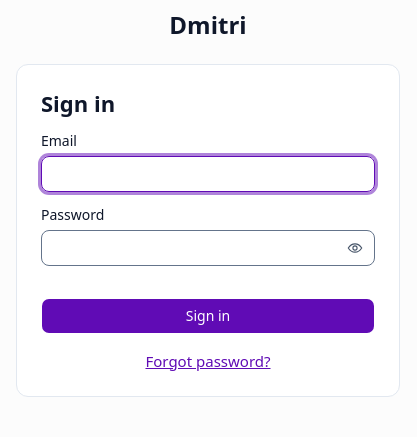
Test case: Login › shows the credential-mismatch copy on a 401, stays on /login, leaves no token, and keeps the typed password (AC 2)
In the field labelled "Email": (208, 174) [41,156,375,192], type "ana@northwind.example"
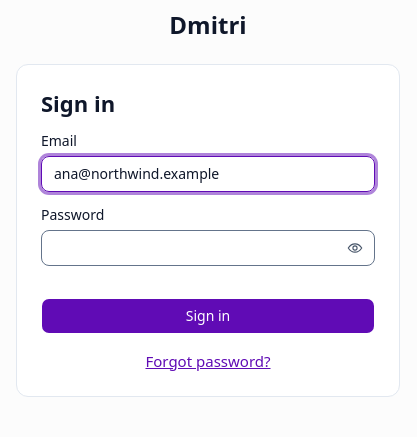
In the password field labelled "Password": (208, 248) [41,230,375,266], type "wrong-password"
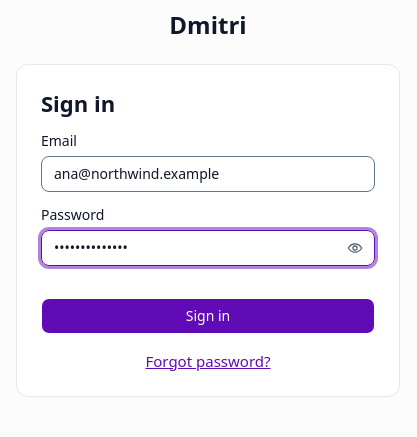
Click the button with test id "login-submit": click(208, 316) [41,298,375,334]
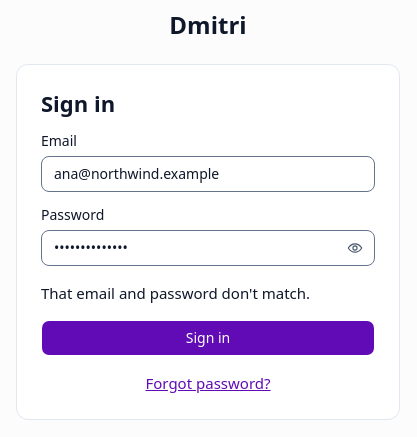
Expected: the form with test id "login-form" is shown, [41,89,375,356]
Result: the text "That email and password don't match." is shown at [41,283,310,303]
